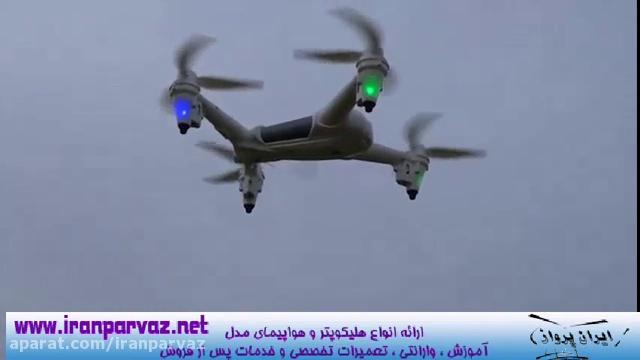drone: (147, 5, 491, 219)
